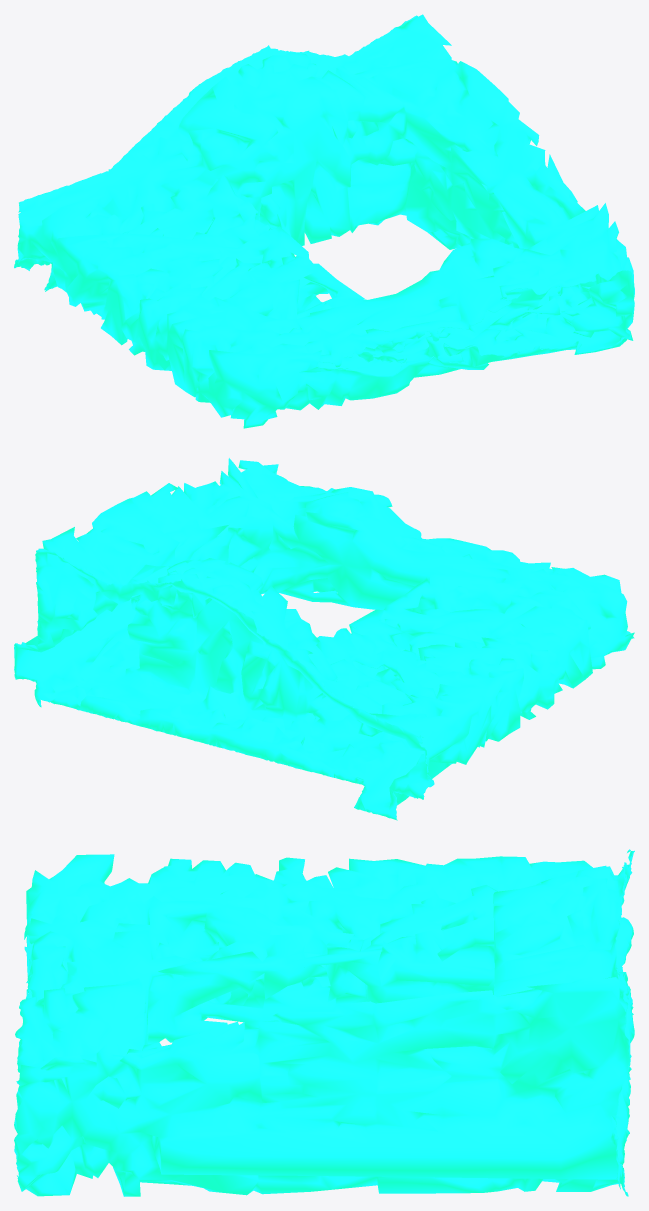
The model's file is DESIGNMAKE3JS.glb.
3 views of the same model, one above another, from view 1: azimuth 30°, elevation 25°; view 2: azimuth 150°, elevation 25°; view 3: azimuth 270°, elevation 25° (orthographic). The views are drawn at different scales.
Parts seen in each view (by area): view 1: 01 Test.001; view 2: 01 Test.001; view 3: 01 Test.001.
Boxes of the visible parts, bbox=[...] form: 01 Test.001: bbox=[14, 14, 634, 428]; 01 Test.001: bbox=[14, 458, 634, 820]; 01 Test.001: bbox=[14, 849, 634, 1196].
Size of the model in its own units: 6.16 by 2.65 by 5.72.
